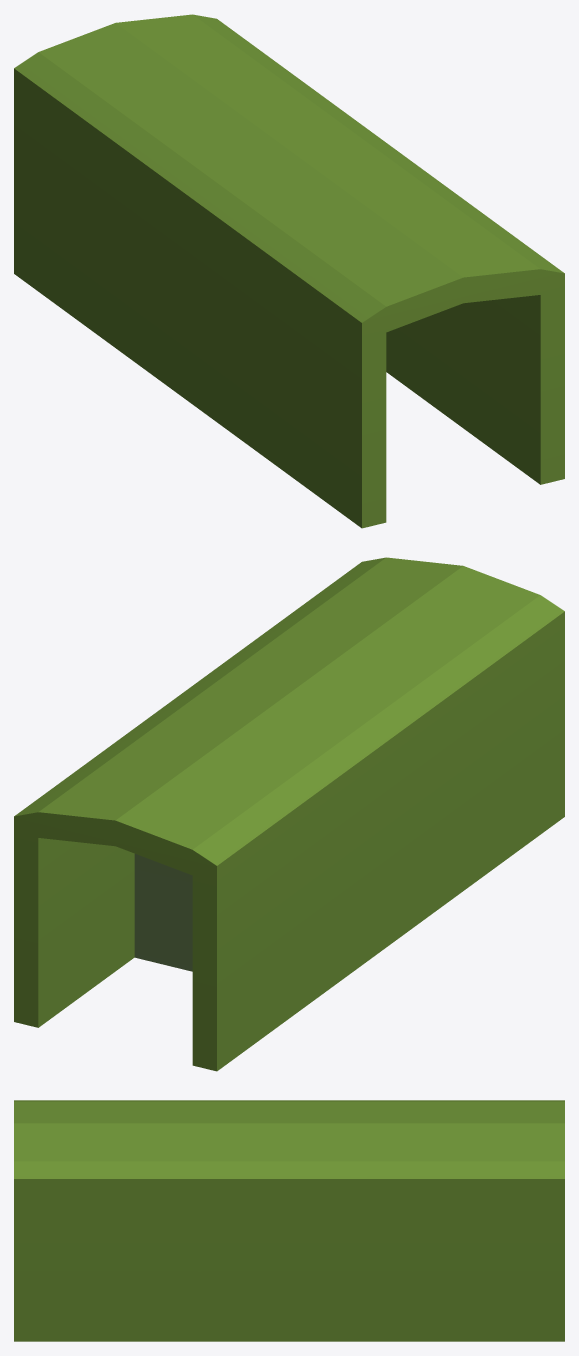
Rendered from Tunel_01.fbx.
3 renders of one model, top to bottom at view 1: azimuth 30°, elevation 25°; view 2: azimuth 150°, elevation 25°; view 3: azimuth 270°, elevation 25°, orthographic. The views are drawn at different scales.
Visible parts, largest first — view 1: Tunel_01; view 2: Tunel_01; view 3: Tunel_01.
Boxes of the visible parts, x1,y1,x2,y2 form: Tunel_01: (14, 14, 564, 528); Tunel_01: (14, 557, 564, 1071); Tunel_01: (14, 1100, 564, 1341).
Bounding box in the file's own units: 6.16 × 6.56 × 18.29.
